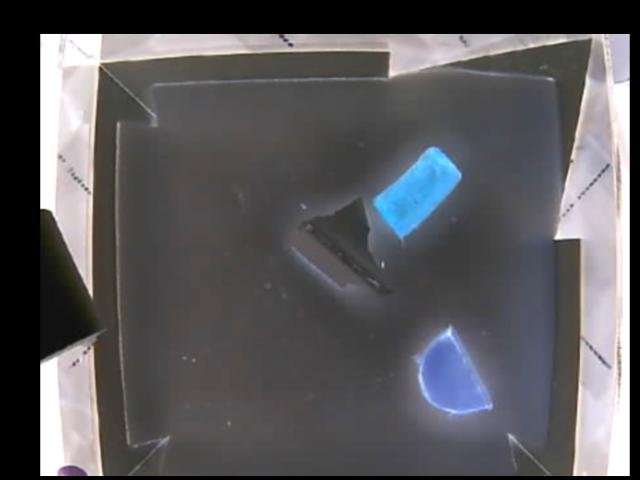Carrot: (377, 146, 463, 238)
China: (289, 196, 387, 296)
Potato: (419, 325, 497, 409)
